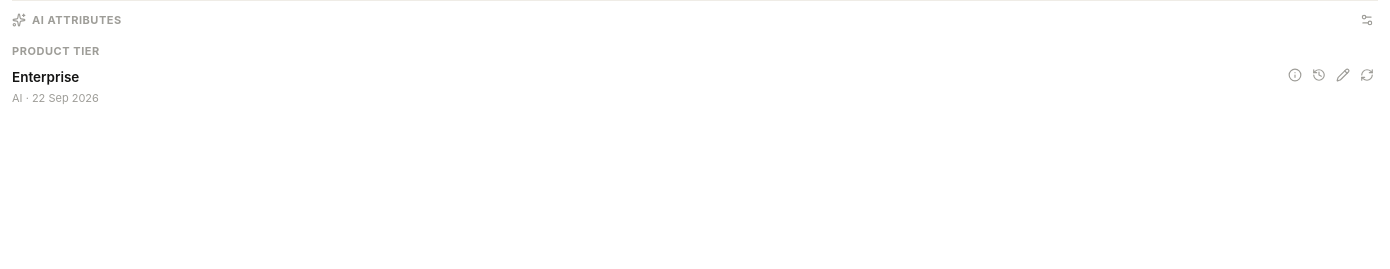
Scenario: AIAttributesPanel › shows the visible citations and counts the withheld ones together
Expected: the text "Enterprise" is shown, x1=12 y1=68 x2=79 y2=84
What coordinates should you click on to do the following:
click the button named "Why Product tier: Enterprise?"
I would click on:
 (1295, 74)
Its box is x1=1284 y1=64 x2=1306 y2=86.
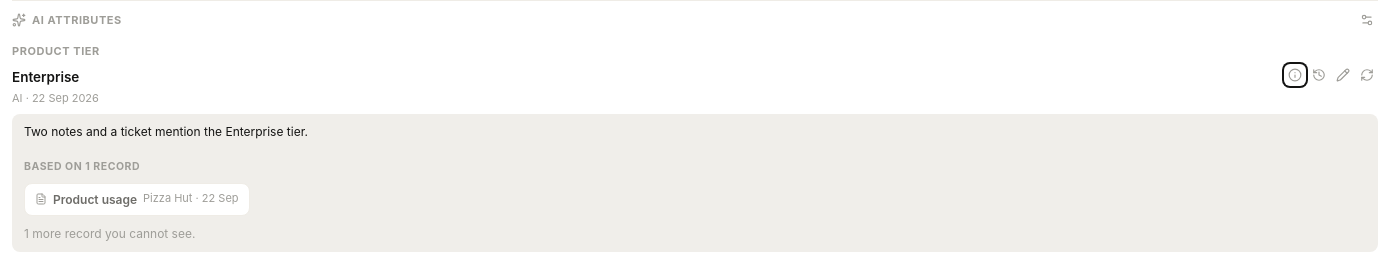
Expected: the link "Product usage Pizza Hut · 22 Sep" is shown, x1=24 y1=183 x2=250 y2=216
Expected: the text "1 more record you cannot see." is shown, x1=24 y1=226 x2=195 y2=241
